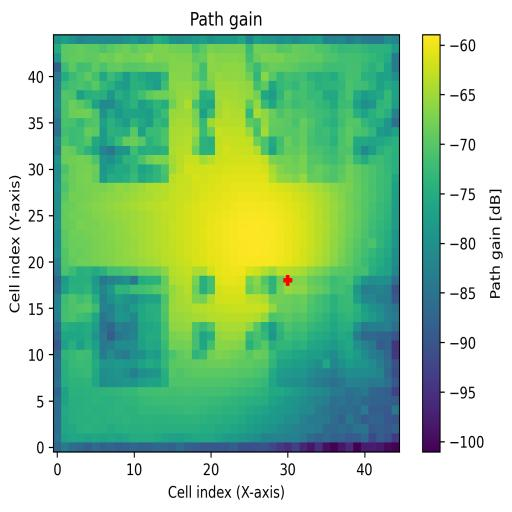Concrete: (267, 72, 346, 182)
Glass: (101, 71, 170, 184)
Metal: (268, 276, 346, 386)
Wood: (92, 266, 170, 388)
